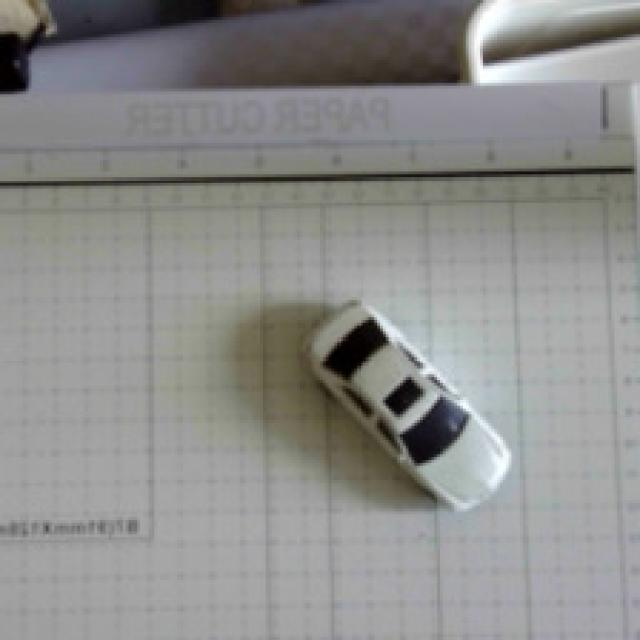Grey Car: (270, 258, 536, 556)
